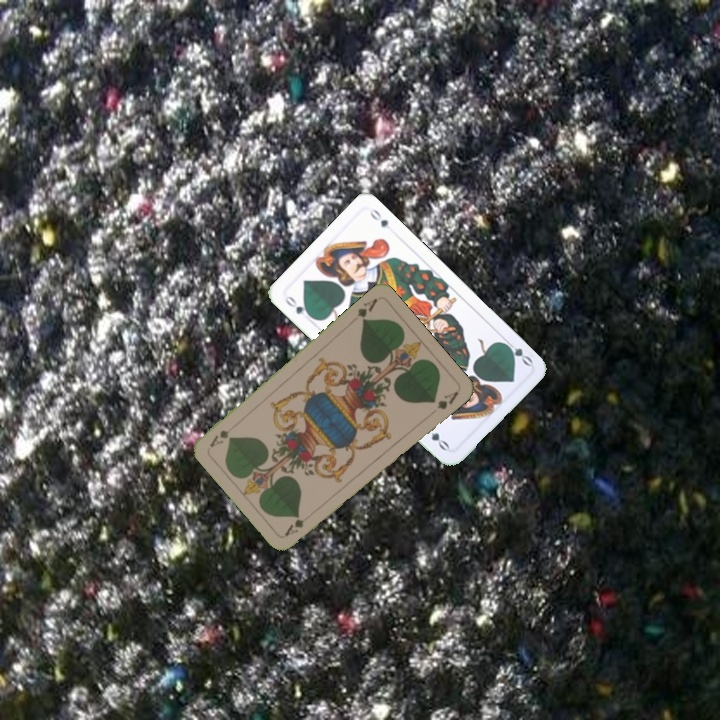GA: (353, 294, 381, 325), (280, 512, 312, 539)
GO: (499, 335, 535, 369), (280, 291, 316, 321)
